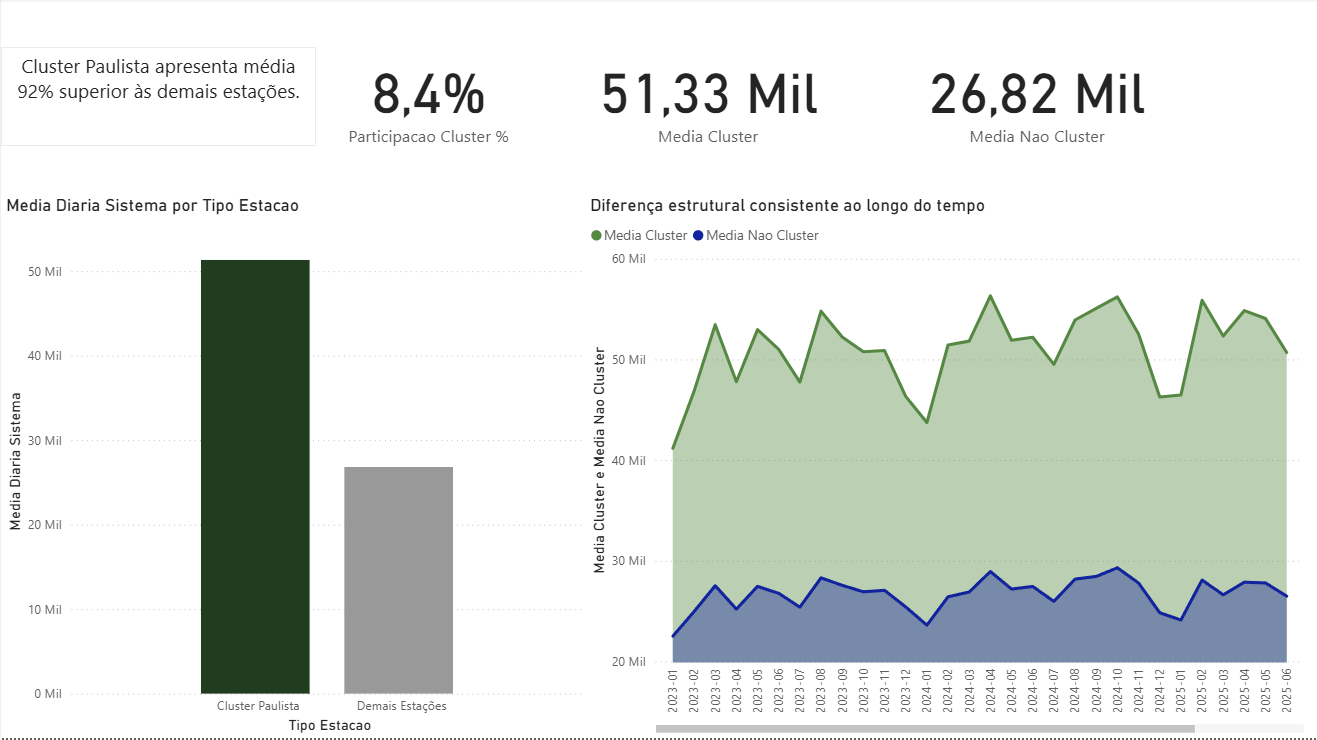

This screenshot's page, from the dashboard's own definition file:
{"tool":"powerbi","page":{"name":"Página 2","canvas":[1280,720],"ordinal":1},"visuals":[{"type":"card","fields":{"Values":["Medidas.Media Cluster"]},"box":[544,0,288,192],"z":0},{"type":"card","fields":{"Values":["Medidas.Media Nao Cluster"]},"box":[864,0,288,192],"z":1000},{"type":"card","fields":{"Values":["Medidas.Participacao Cluster %"]},"box":[320,0,192,192],"z":2000},{"type":"clusteredColumnChart","fields":{"Category":["metro_2023_2024_2025_clean.Tipo Estacao"],"Y":["Medidas.Media Diaria Sistema"]},"box":[0,192,576,528],"z":3000},{"type":"lineChart","title":"Diferença estrutural consistente ao longo do tempo","fields":{"Category":["Calendario.AnoMes"],"Y":["Medidas.Media Cluster","Medidas.Media Nao Cluster"]},"box":[568,192,704,528],"z":4000},{"type":"textbox","box":[0,47.7,306.4,96.3],"z":4001}]}

Visuals, with their boxes in screenshot pixels (x1, y1, x2, y2), scaled from the page's 1280x720 canvas onto the 1317x740 screenshot:
card - Medidas.Media Cluster: bbox=[560, 0, 856, 197]
card - Medidas.Media Nao Cluster: bbox=[889, 0, 1185, 197]
card - Medidas.Participacao Cluster %: bbox=[329, 0, 527, 197]
clusteredColumnChart - metro_2023_2024_2025_clean.Tipo Estacao x Medidas.Media Diaria Sistema: bbox=[0, 197, 593, 739]
"Diferença estrutural consistente ao longo do tempo" lineChart: bbox=[584, 197, 1309, 739]
textbox: bbox=[0, 49, 315, 148]
